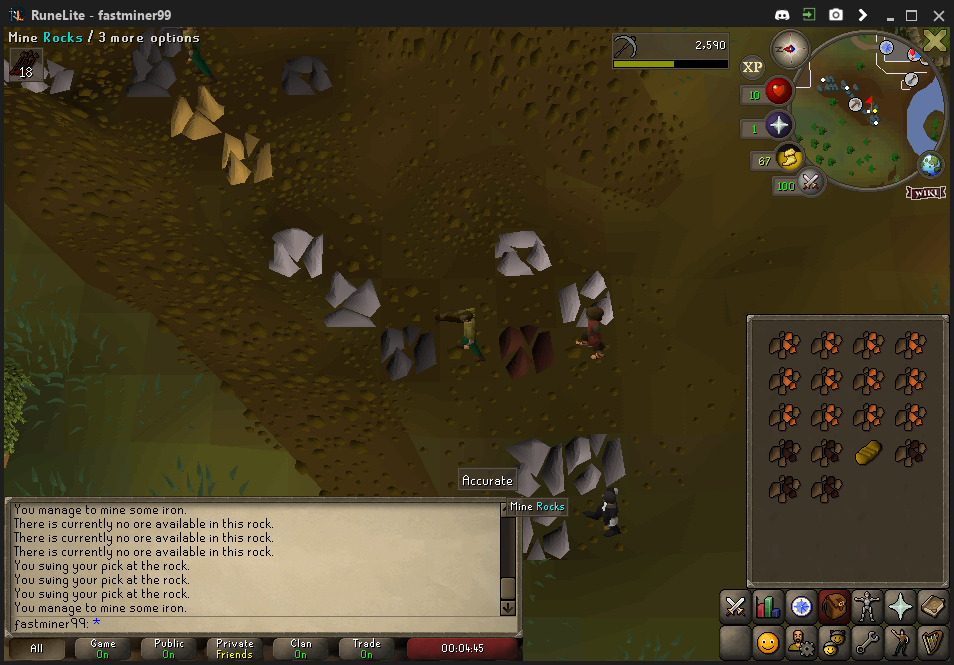depleted: (378, 317, 432, 377), (277, 58, 335, 94), (126, 56, 178, 93)
ore: (495, 321, 560, 373)
